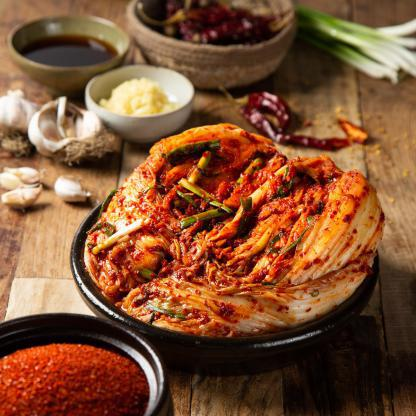kimchi: (115, 141, 400, 344), (68, 124, 284, 298)
